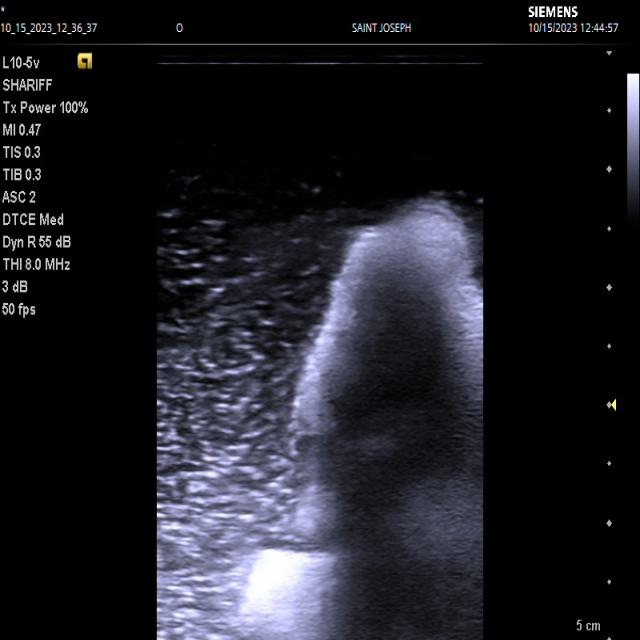tissue: (246, 202, 483, 640)
